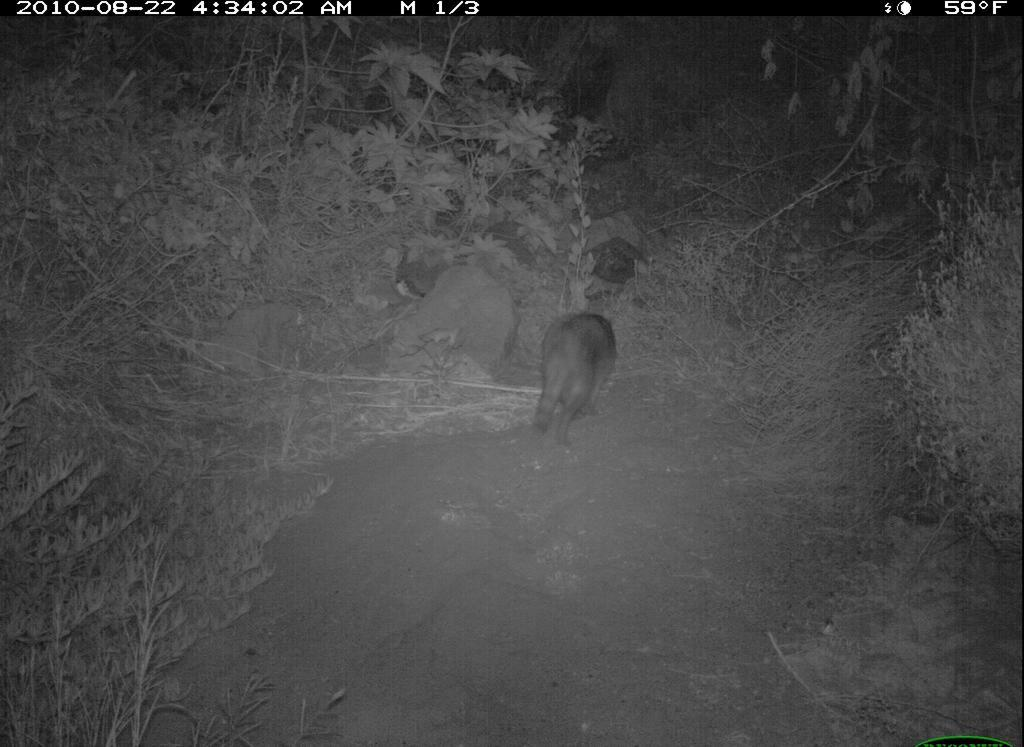raccoon: (523, 310, 628, 459)
